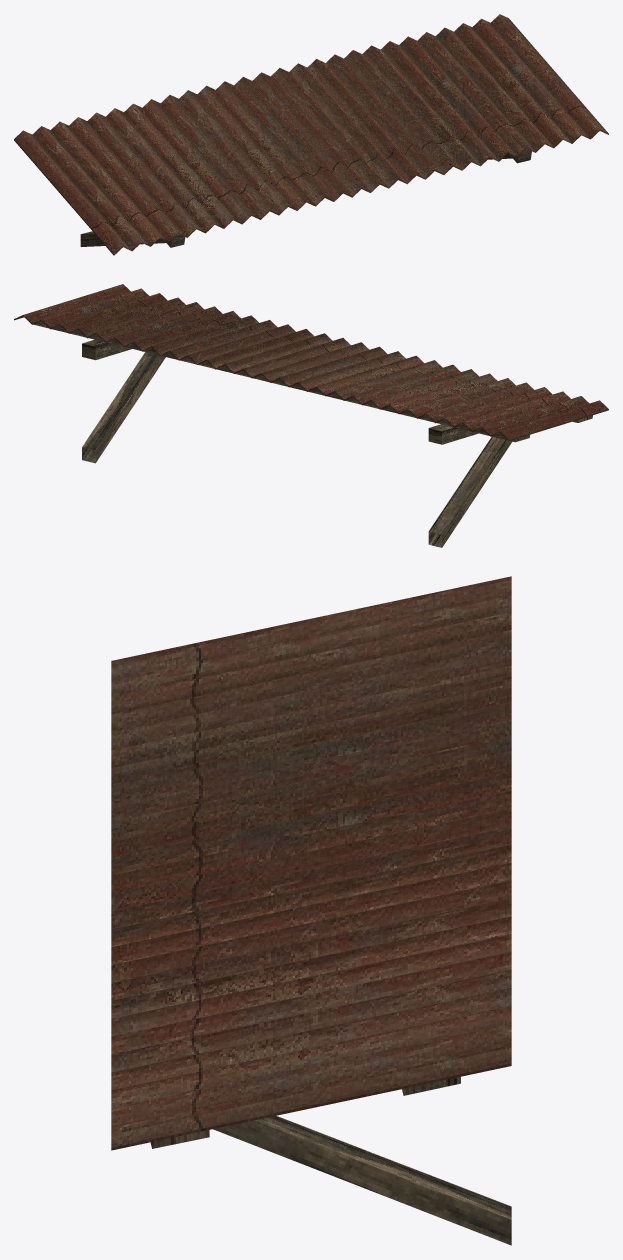
Rendered from roof_small_hr_1.glb.
3 renders of one model, top to bottom at view 1: azimuth 30°, elevation 25°; view 2: azimuth 150°, elevation 25°; view 3: azimuth 270°, elevation 25°, orthographic. The views are drawn at different scales.
Visible parts, largest first — view 1: roof_small_hr_1; view 2: roof_small_hr_1; view 3: roof_small_hr_1.
Boxes of the visible parts, left/top/right/bottom form: roof_small_hr_1: left=14, top=14, right=608, bottom=255; roof_small_hr_1: left=14, top=284, right=608, bottom=547; roof_small_hr_1: left=111, top=576, right=511, bottom=1245.
Size of the model in its own units: 4 by 1.01 by 1.4.
Materials: 2 (2 with a texture image).
